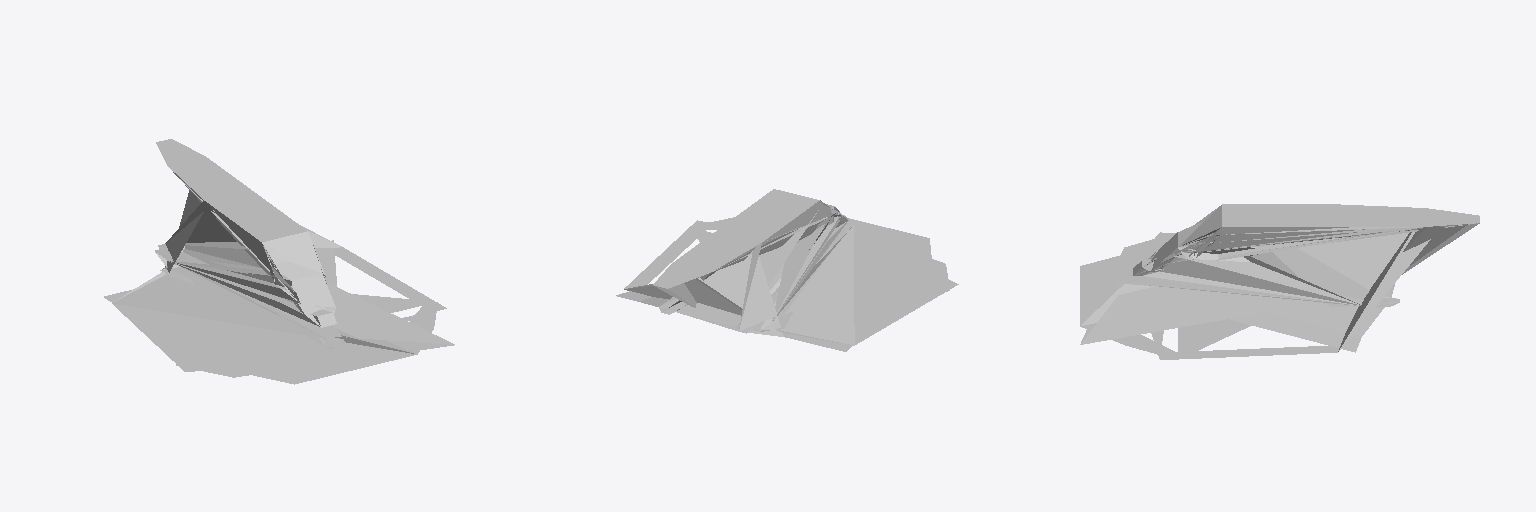
The model's file is Player.obj.
The picture shows the model from 3 angles: view 1: azimuth 30°, elevation 25°; view 2: azimuth 150°, elevation 25°; view 3: azimuth 270°, elevation 25°; orthographic projection.
Size of the model in its own units: 34 by 10 by 45.